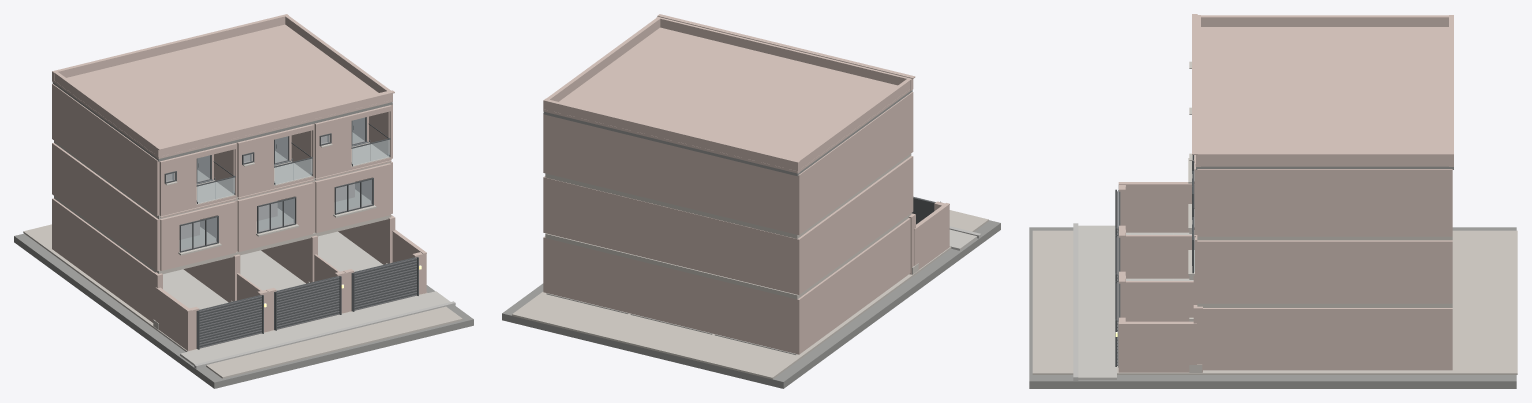
Rendered from modelo-3d-v6-aprovado.glb.
3 renders of one model, left to right at view 1: azimuth 30°, elevation 25°; view 2: azimuth 150°, elevation 25°; view 3: azimuth 270°, elevation 25°, orthographic. The views are drawn at different scales.
Visible parts, largest first — view 1: taupe, white, slab, pavers, metal, concrete_dark, gate_highlight, whitebright, glass, stone, muros_laterais_ate_parede_terreo, vidros_sacadas_frente (+2 smaller); view 2: taupe, white, slab, concrete_dark, muros_laterais_ate_parede_terreo, taupe_dark, pavers; view 3: taupe, white, slab, concrete_dark, muros_laterais_ate_parede_terreo, pavers, metal, concrete, taupe_dark, stone.
Boxes of the visible parts, x1=… form: taupe: x1=52, y1=14, x2=423, y2=350; white: x1=52, y1=143, x2=395, y2=322; slab: x1=23, y1=132, x2=462, y2=378; pavers: x1=163, y1=231, x2=450, y2=365; metal: x1=179, y1=117, x2=418, y2=349; concrete_dark: x1=14, y1=82, x2=473, y2=388; gate_highlight: x1=199, y1=258, x2=416, y2=348; whitebright: x1=160, y1=111, x2=391, y2=239; glass: x1=181, y1=117, x2=372, y2=250; stone: x1=153, y1=142, x2=390, y2=329; muros_laterais_ate_parede_terreo: x1=155, y1=230, x2=426, y2=351; vidros_sacadas_frente: x1=197, y1=139, x2=389, y2=203; taupe: x1=543, y1=16, x2=944, y2=234; white: x1=543, y1=156, x2=915, y2=354; slab: x1=512, y1=153, x2=988, y2=379; concrete_dark: x1=502, y1=90, x2=1000, y2=388; muros_laterais_ate_parede_terreo: x1=914, y1=203, x2=949, y2=269; taupe_dark: x1=657, y1=14, x2=915, y2=79; pavers: x1=546, y1=229, x2=976, y2=354; taupe: x1=1119, y1=15, x2=1453, y2=321; white: x1=1126, y1=235, x2=1452, y2=372; slab: x1=1032, y1=230, x2=1517, y2=374; concrete_dark: x1=1029, y1=166, x2=1516, y2=388; muros_laterais_ate_parede_terreo: x1=1118, y1=182, x2=1196, y2=372; pavers: x1=1078, y1=225, x2=1193, y2=379; metal: x1=1115, y1=161, x2=1194, y2=367; concrete: x1=1073, y1=223, x2=1078, y2=380; taupe_dark: x1=1192, y1=14, x2=1197, y2=154; stone: x1=1130, y1=61, x2=1202, y2=372.
Size of the model in its own units: 15.4 by 10.64 by 20.65.
